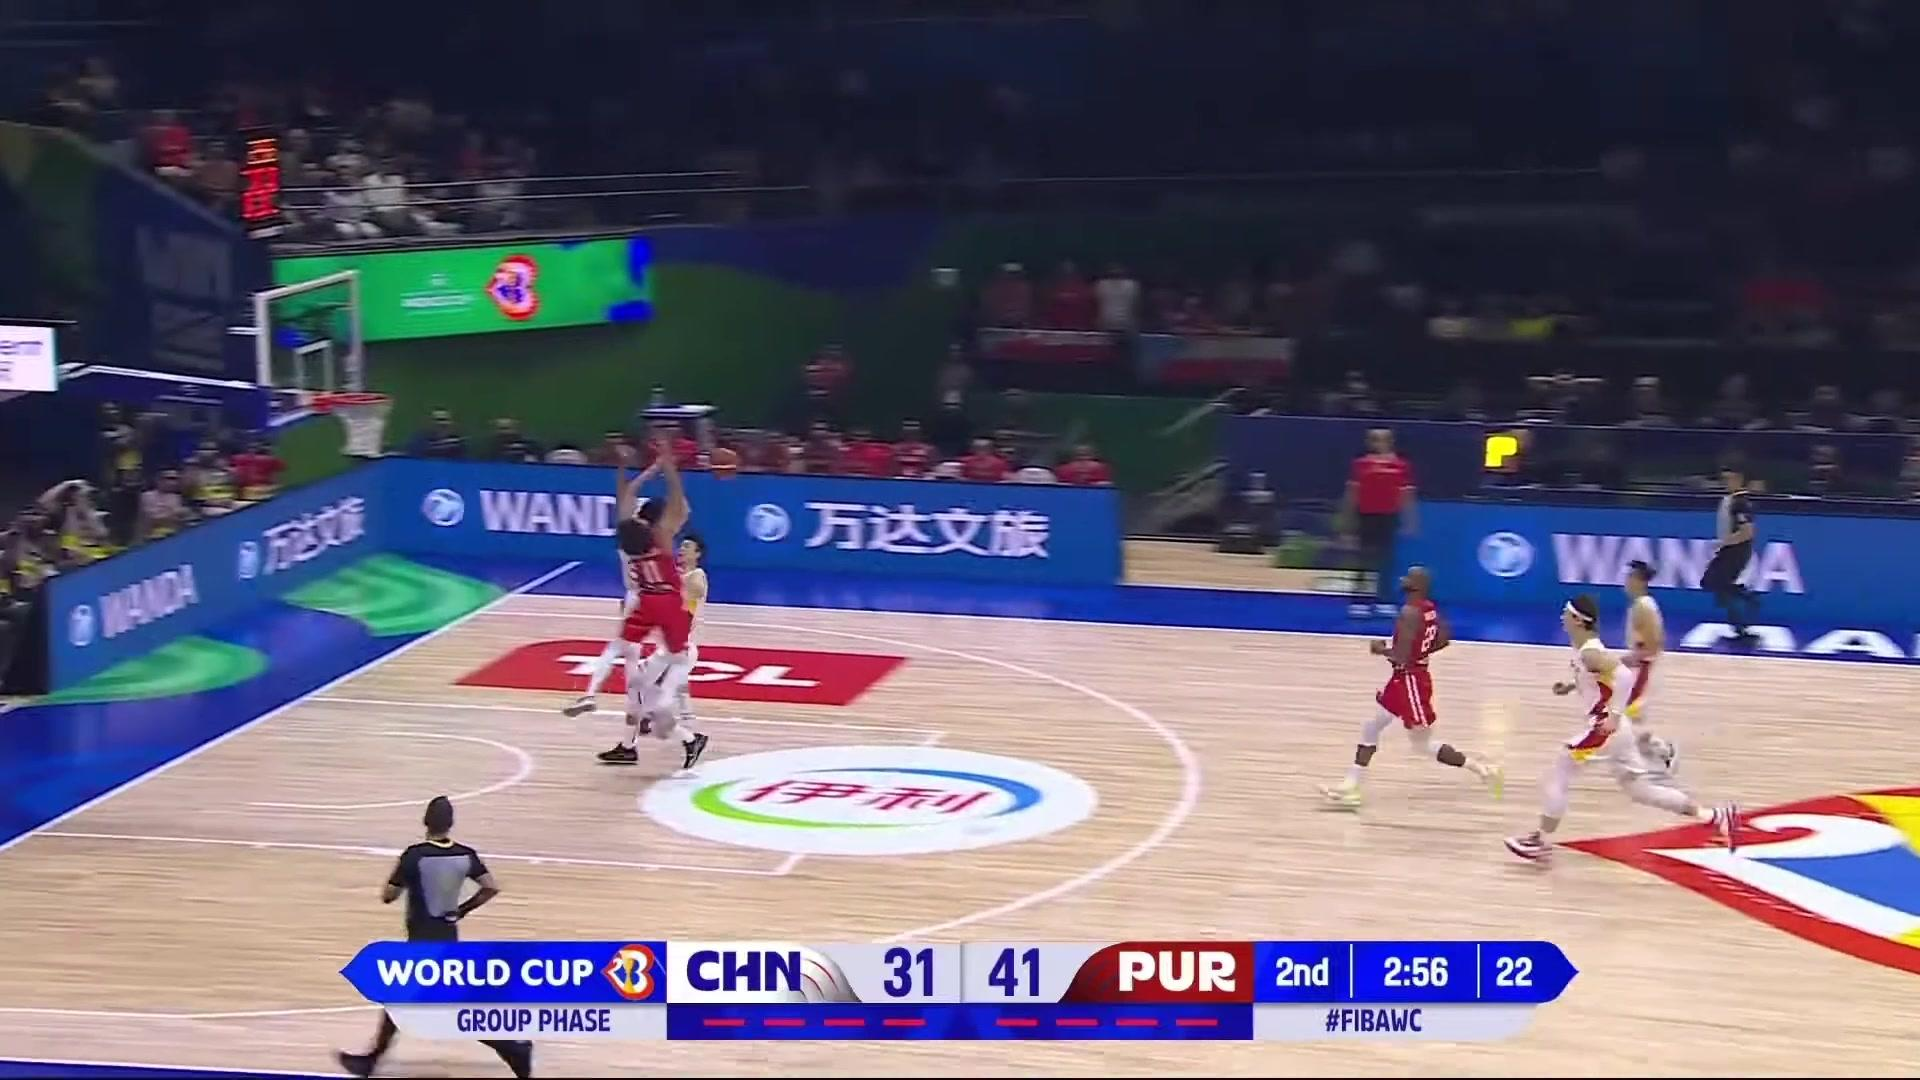no_foul: (568, 451, 698, 737)
